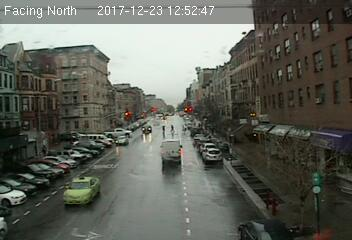car: (64, 175, 101, 206), (204, 148, 223, 163), (115, 136, 129, 145)
truck: (160, 138, 182, 164)
